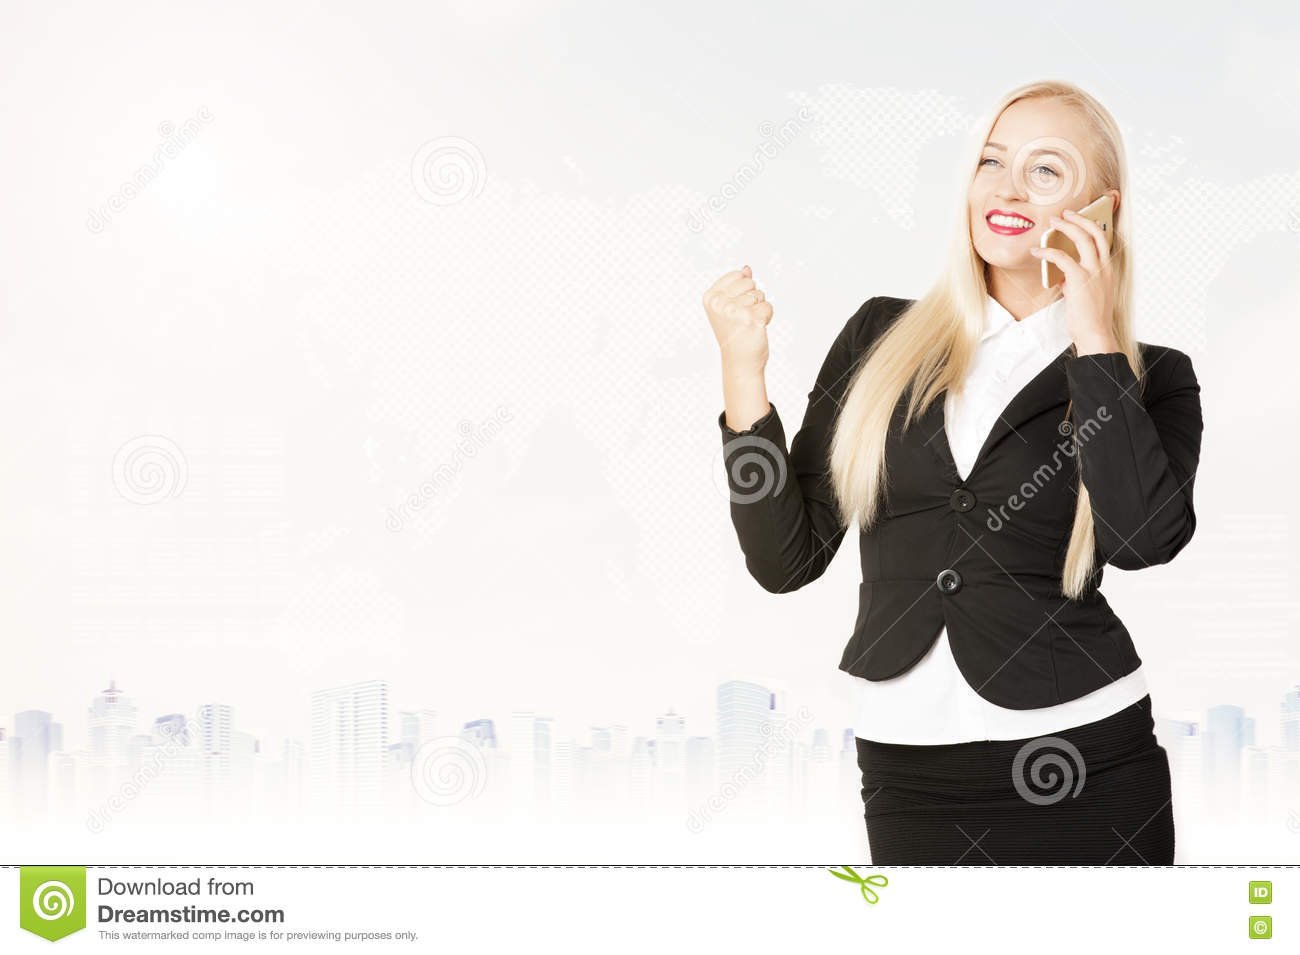phone: (1043, 195, 1117, 284)
talk: (968, 134, 1122, 358)
